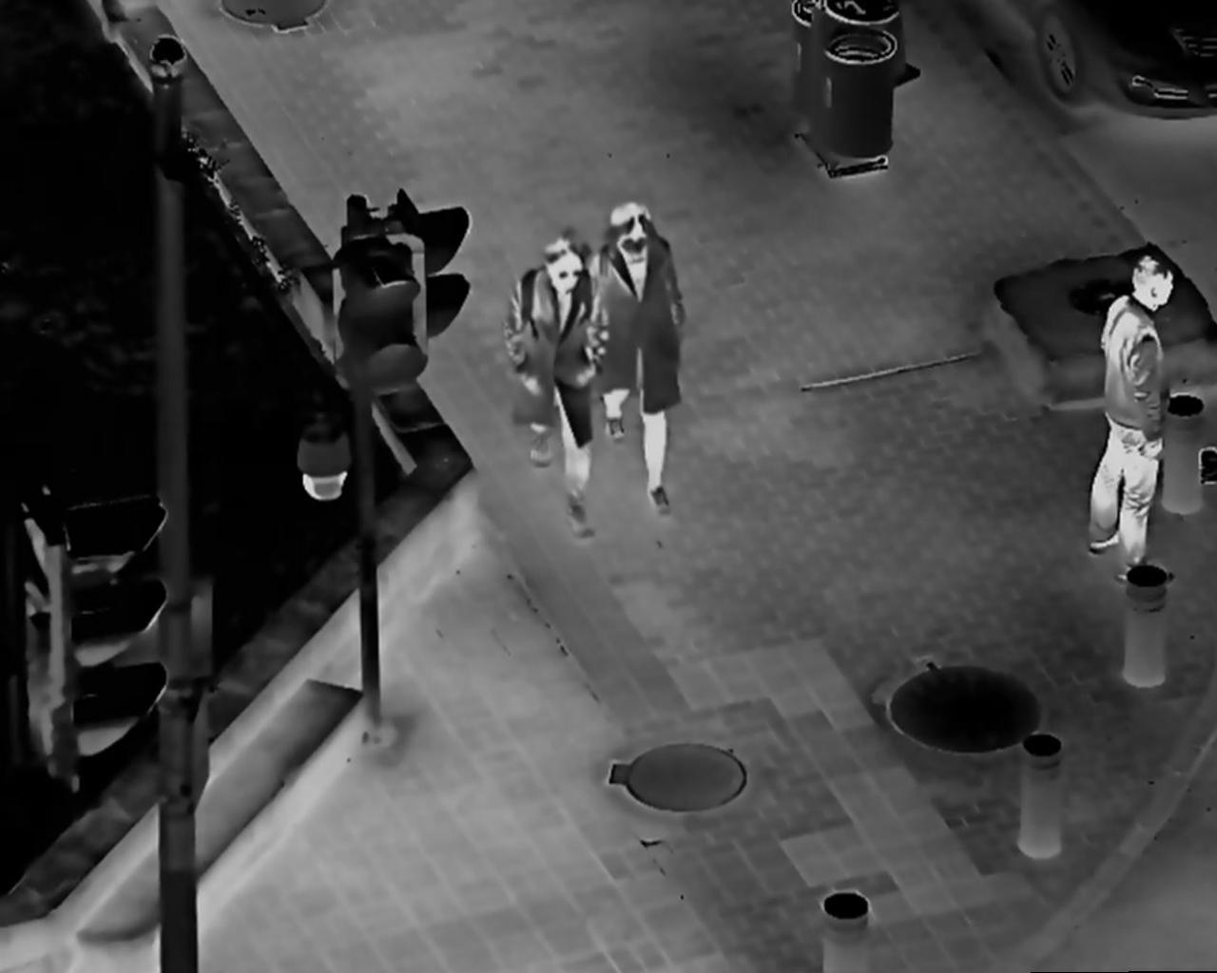person: (1084, 227, 1185, 593), (505, 216, 614, 546), (587, 198, 692, 525)
